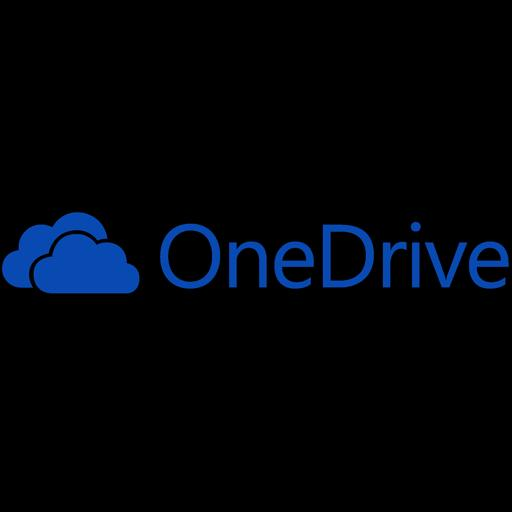Microsoft OneDrive: (0, 210, 512, 302)
